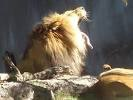lion: (23, 8, 94, 80)
